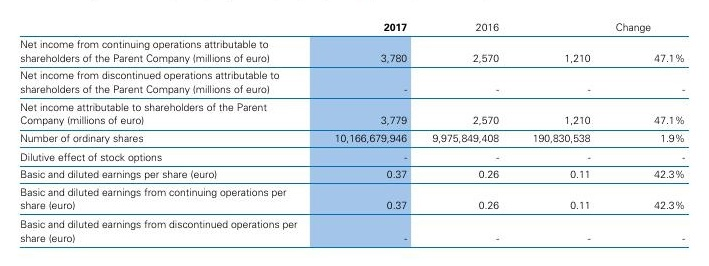table: (0, 0, 709, 266)
